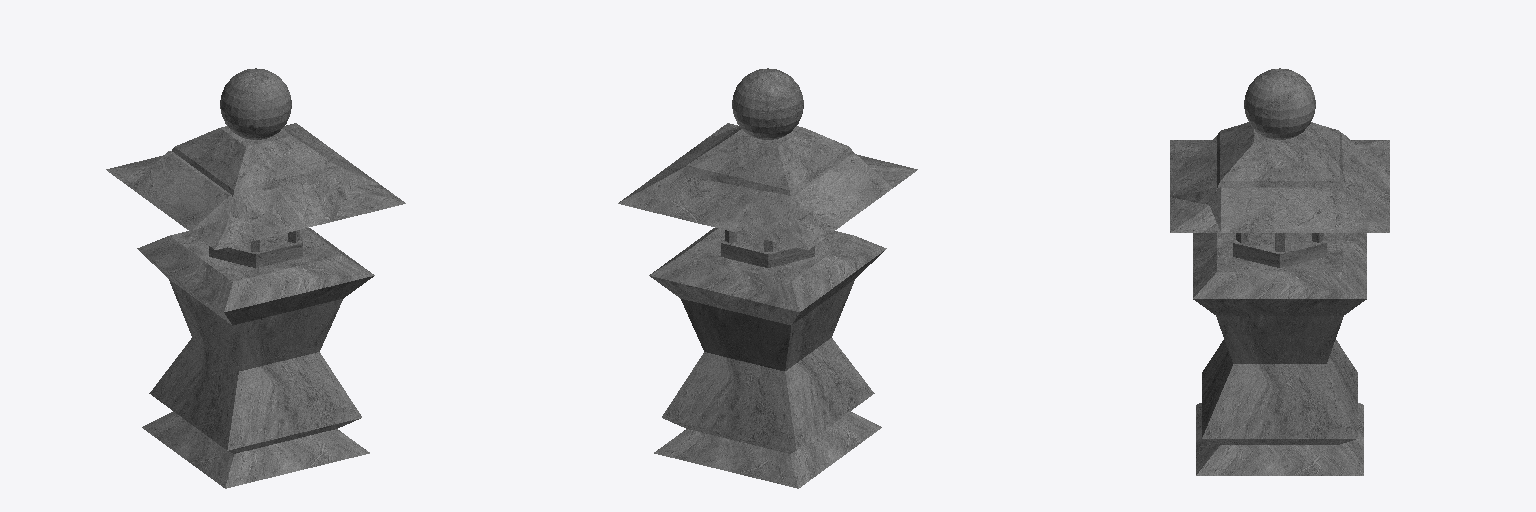
The picture shows the model from 3 angles: view 1: azimuth 30°, elevation 25°; view 2: azimuth 150°, elevation 25°; view 3: azimuth 270°, elevation 25°; orthographic projection.
Parts seen in each view (by area): view 1: Farol; view 2: Farol; view 3: Farol.
Boxes of the visible parts, box(x1,y1,x2,y2) form: Farol: box(106, 68, 405, 488); Farol: box(618, 68, 917, 488); Farol: box(1170, 68, 1389, 475).
Bounding box in the file's own units: 11.62 × 21.44 × 11.62.
Materials: 1 (1 with a texture image).